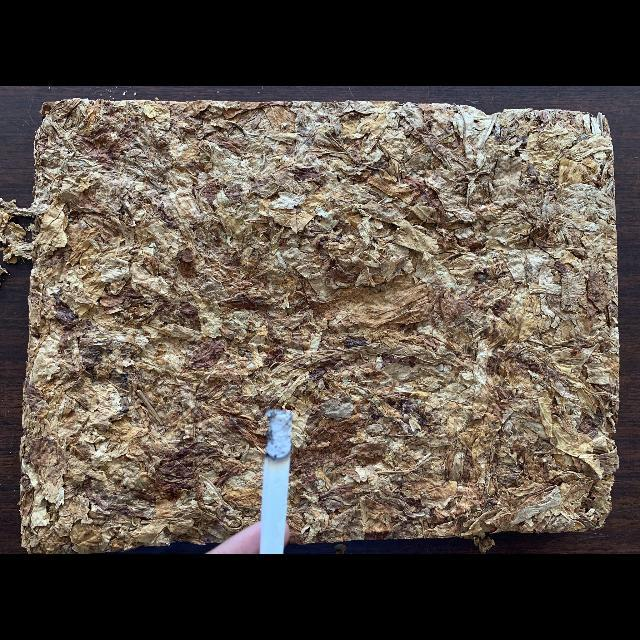rokok: (265, 408, 293, 554)
